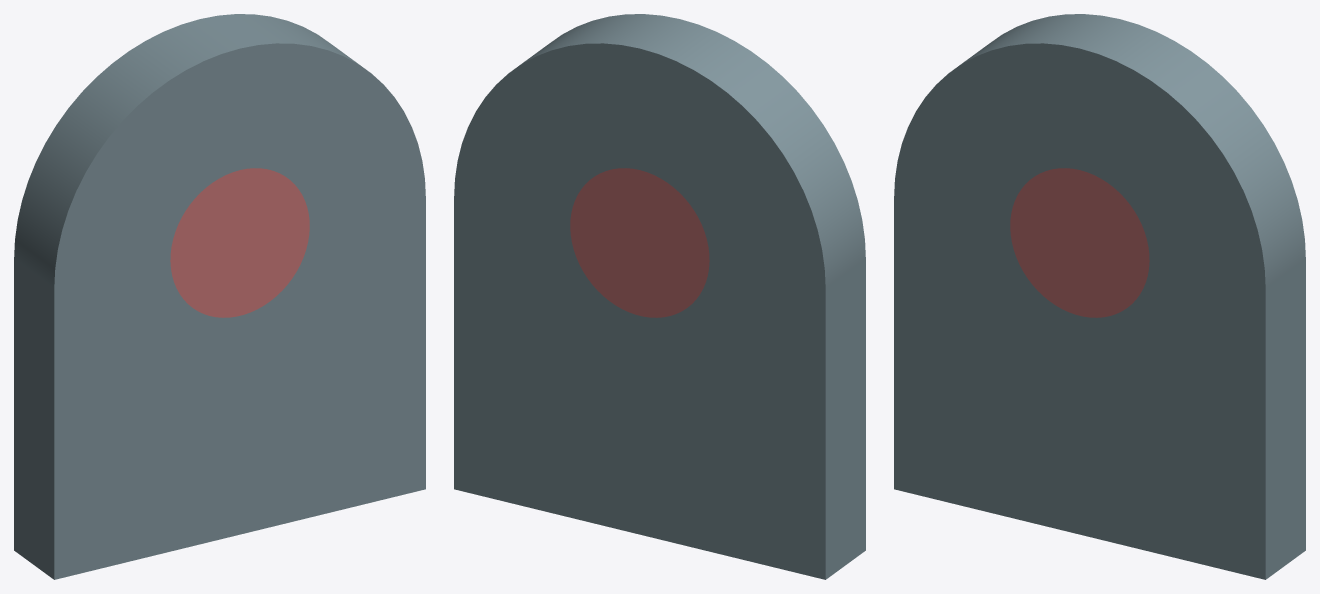
File: step_02.glb
The picture shows the model from 3 angles, left to right: view 1: azimuth 30°, elevation 25°; view 2: azimuth 150°, elevation 25°; view 3: azimuth 330°, elevation 25°; orthographic projection.
Visible parts, largest first — view 1: part__lifting lug, removed__lifting lug; view 2: part__lifting lug, removed__lifting lug; view 3: part__lifting lug, removed__lifting lug.
Part boxes in pixels (x1,y1,x2,y2): part__lifting lug: [14, 14, 425, 579]; removed__lifting lug: [170, 168, 309, 317]; part__lifting lug: [454, 14, 865, 579]; removed__lifting lug: [570, 168, 709, 317]; part__lifting lug: [894, 14, 1305, 579]; removed__lifting lug: [1010, 168, 1149, 317].
Bounding box in the file's own units: 160 × 200 × 30.
